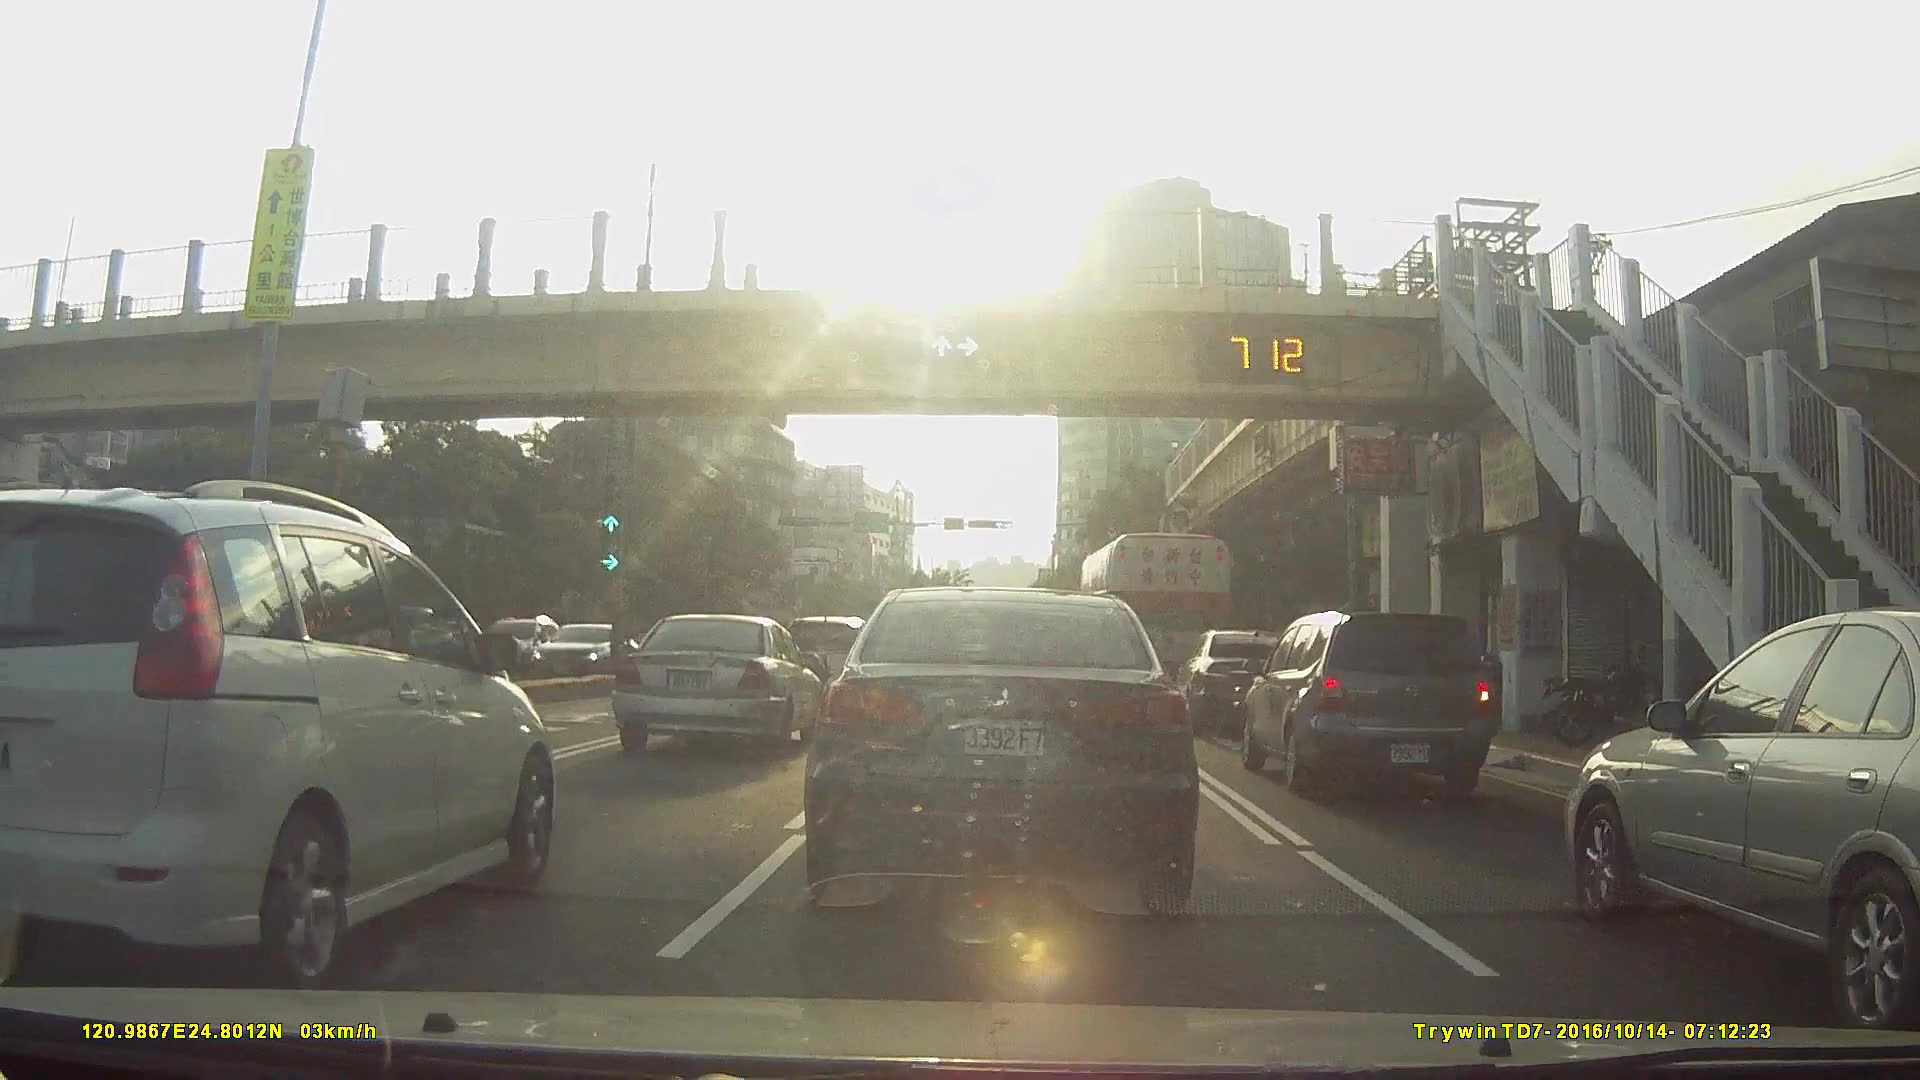vehicle: (0, 477, 564, 986), (1571, 603, 1920, 1039), (804, 582, 1200, 919), (1240, 611, 1495, 796), (615, 609, 827, 754), (1180, 626, 1305, 731), (539, 618, 671, 695), (758, 607, 855, 698), (464, 611, 574, 684)
